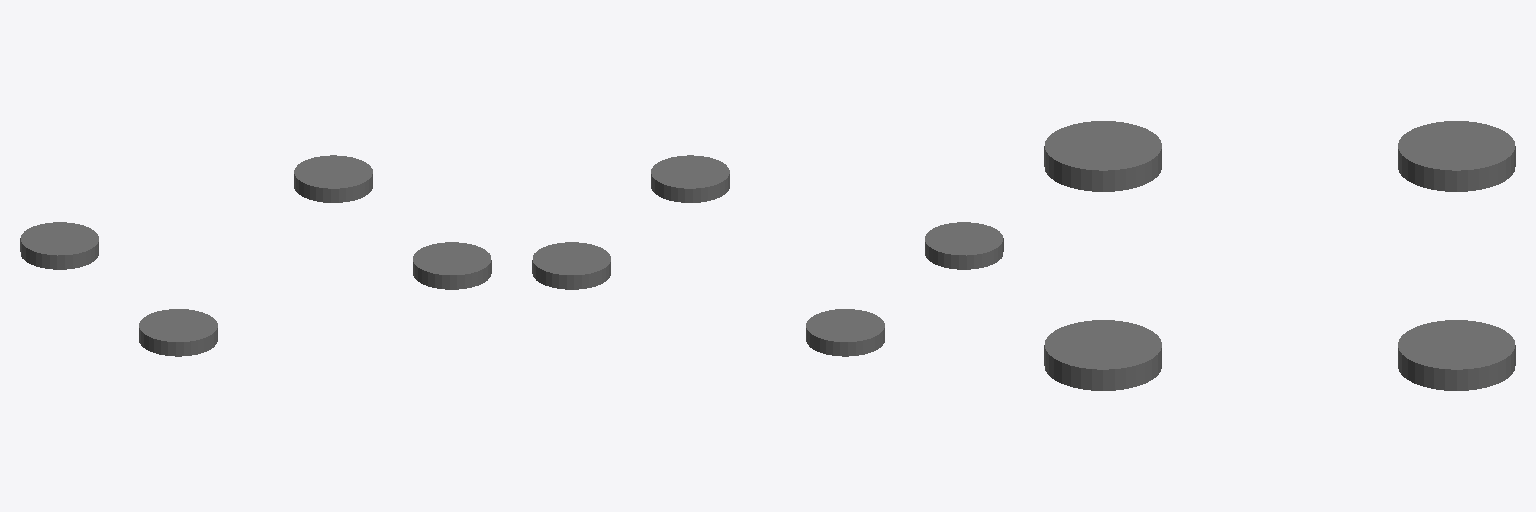
robot.urdf — robot:
<?xml version="1.0"?>
<!--
  整机 URDF：公共体 / 底盘 / 腿，按模块分区。
  两处 <ros2_control> 各自独立，各对应下位机的一帧，id 见块内 <param>。
-->
<robot name="robot">

  <!-- ========== 公共：车体 ========== -->
  <material name="grey">
    <color rgba="0.5 0.5 0.5 1.0"/>
  </material>

  <link name="base_link">
    <inertial>
      <mass value="10.0"/>
      <origin xyz="0 0 0.1" rpy="0 0 0"/>
      <inertia ixx="0.15" ixy="0.0" ixz="0.0" iyy="0.15" iyz="0.0" izz="0.2"/>
    </inertial>
  </link>

  <!-- ========== 底盘 chassis：4 个轮子 ========== -->
  <!-- 轮半径 0.05，轮心距中心 lx=0.2、ly=0.15（lx+ly=0.35），
       需与 config/chassis_controller.yaml 的 kinematics 参数保持一致。 -->
  <link name="front_left_wheel">
    <inertial>
      <mass value="0.3"/>
      <origin xyz="0 0 0"/>
      <inertia ixx="0.001" ixy="0" ixz="0" iyy="0.001" iyz="0" izz="0.001"/>
    </inertial>
    <visual>
      <geometry><cylinder radius="0.05" length="0.02"/></geometry>
      <material name="grey"/>
    </visual>
  </link>

  <link name="front_right_wheel">
    <inertial>
      <mass value="0.3"/>
      <origin xyz="0 0 0"/>
      <inertia ixx="0.001" ixy="0" ixz="0" iyy="0.001" iyz="0" izz="0.001"/>
    </inertial>
    <visual>
      <geometry><cylinder radius="0.05" length="0.02"/></geometry>
      <material name="grey"/>
    </visual>
  </link>

  <link name="rear_left_wheel">
    <inertial>
      <mass value="0.3"/>
      <origin xyz="0 0 0"/>
      <inertia ixx="0.001" ixy="0" ixz="0" iyy="0.001" iyz="0" izz="0.001"/>
    </inertial>
    <visual>
      <geometry><cylinder radius="0.05" length="0.02"/></geometry>
      <material name="grey"/>
    </visual>
  </link>

  <link name="rear_right_wheel">
    <inertial>
      <mass value="0.3"/>
      <origin xyz="0 0 0"/>
      <inertia ixx="0.001" ixy="0" ixz="0" iyy="0.001" iyz="0" izz="0.001"/>
    </inertial>
    <visual>
      <geometry><cylinder radius="0.05" length="0.02"/></geometry>
      <material name="grey"/>
    </visual>
  </link>

  <!-- 轮子绕 Y 轴（横向）旋转 -->
  <joint name="front_left_wheel_joint" type="continuous">
    <parent link="base_link"/>
    <child link="front_left_wheel"/>
    <origin xyz="0.2 0.15 -0.05" rpy="0 0 0"/>
    <axis xyz="0 1 0"/>
  </joint>
  <joint name="front_right_wheel_joint" type="continuous">
    <parent link="base_link"/>
    <child link="front_right_wheel"/>
    <origin xyz="0.2 -0.15 -0.05" rpy="0 0 0"/>
    <axis xyz="0 1 0"/>
  </joint>
  <joint name="rear_left_wheel_joint" type="continuous">
    <parent link="base_link"/>
    <child link="rear_left_wheel"/>
    <origin xyz="-0.2 0.15 -0.05" rpy="0 0 0"/>
    <axis xyz="0 1 0"/>
  </joint>
  <joint name="rear_right_wheel_joint" type="continuous">
    <parent link="base_link"/>
    <child link="rear_right_wheel"/>
    <origin xyz="-0.2 -0.15 -0.05" rpy="0 0 0"/>
    <axis xyz="0 1 0"/>
  </joint>

  <ros2_control name="ChassisSystem" type="system">
    <hardware>
      <plugin>chassis/ChassisSystem</plugin>
      <!-- 整个底盘一帧，id 与下位机固件约定 -->
      <param name="chassis_id">1</param>
    </hardware>

    <joint name="front_left_wheel_joint">
      <command_interface name="velocity"/>
      <state_interface name="velocity"/>
      <state_interface name="position"/>
    </joint>
    <joint name="front_right_wheel_joint">
      <command_interface name="velocity"/>
      <state_interface name="velocity"/>
      <state_interface name="position"/>
    </joint>
    <joint name="rear_left_wheel_joint">
      <command_interface name="velocity"/>
      <state_interface name="velocity"/>
      <state_interface name="position"/>
    </joint>
    <joint name="rear_right_wheel_joint">
      <command_interface name="velocity"/>
      <state_interface name="velocity"/>
      <state_interface name="position"/>
    </joint>
  </ros2_control>

  <!-- ========== 腿 leg：4 条腿 ========== -->
  <link name="front_left_leg"/>
  <link name="front_right_leg"/>
  <link name="rear_left_leg"/>
  <link name="rear_right_leg"/>

  <joint name="front_left_leg_joint" type="revolute">
    <parent link="base_link"/>
    <child link="front_left_leg"/>
    <origin xyz="0.2 0.15 0" rpy="0 0 0"/>
    <axis xyz="0 1 0"/>
    <limit lower="-1.57" upper="1.57" effort="10.0" velocity="10.0"/>
  </joint>
  <joint name="front_right_leg_joint" type="revolute">
    <parent link="base_link"/>
    <child link="front_right_leg"/>
    <origin xyz="0.2 -0.15 0" rpy="0 0 0"/>
    <axis xyz="0 1 0"/>
    <limit lower="-1.57" upper="1.57" effort="10.0" velocity="10.0"/>
  </joint>
  <joint name="rear_left_leg_joint" type="revolute">
    <parent link="base_link"/>
    <child link="rear_left_leg"/>
    <origin xyz="-0.2 0.15 0" rpy="0 0 0"/>
    <axis xyz="0 1 0"/>
    <limit lower="-1.57" upper="1.57" effort="10.0" velocity="10.0"/>
  </joint>
  <joint name="rear_right_leg_joint" type="revolute">
    <parent link="base_link"/>
    <child link="rear_right_leg"/>
    <origin xyz="-0.2 -0.15 0" rpy="0 0 0"/>
    <axis xyz="0 1 0"/>
    <limit lower="-1.57" upper="1.57" effort="10.0" velocity="10.0"/>
  </joint>

  <ros2_control name="LegSystem" type="system">
    <hardware>
      <plugin>leg/LegSystem</plugin>
      <!-- 四条腿一帧，id 与下位机固件约定 -->
      <param name="leg_id">3</param>
    </hardware>

    <joint name="front_left_leg_joint">
      <command_interface name="position"/>
      <state_interface name="position"/>
      <state_interface name="velocity"/>
    </joint>
    <joint name="front_right_leg_joint">
      <command_interface name="position"/>
      <state_interface name="position"/>
      <state_interface name="velocity"/>
    </joint>
    <joint name="rear_left_leg_joint">
      <command_interface name="position"/>
      <state_interface name="position"/>
      <state_interface name="velocity"/>
    </joint>
    <joint name="rear_right_leg_joint">
      <command_interface name="position"/>
      <state_interface name="position"/>
      <state_interface name="velocity"/>
    </joint>
  </ros2_control>
</robot>

--- Render facts (derived) ---
Views: 3 orthographic renders of the robot side by side, from view 1: azimuth 30°, elevation 25°; view 2: azimuth 150°, elevation 25°; view 3: azimuth 270°, elevation 25°.
Model robot with 9 links and 8 joints (4 revolute, 4 continuous), rooted at base_link, posed all joints at 0.
Links seen in each view (by area): view 1: front_left_wheel, rear_right_wheel, front_right_wheel, rear_left_wheel; view 2: front_right_wheel, rear_left_wheel, front_left_wheel, rear_right_wheel; view 3: front_left_wheel, front_right_wheel, rear_left_wheel, rear_right_wheel.
Boxes of the visible links, x1=… form: front_left_wheel: x1=294, y1=155, x2=372, y2=202; rear_right_wheel: x1=139, y1=309, x2=217, y2=356; front_right_wheel: x1=413, y1=242, x2=491, y2=289; rear_left_wheel: x1=20, y1=222, x2=98, y2=269; front_right_wheel: x1=651, y1=155, x2=729, y2=202; rear_left_wheel: x1=806, y1=309, x2=884, y2=356; front_left_wheel: x1=532, y1=242, x2=610, y2=289; rear_right_wheel: x1=925, y1=222, x2=1003, y2=269; front_left_wheel: x1=1398, y1=320, x2=1515, y2=390; front_right_wheel: x1=1044, y1=320, x2=1161, y2=390; rear_left_wheel: x1=1398, y1=121, x2=1515, y2=191; rear_right_wheel: x1=1044, y1=121, x2=1161, y2=191.
Bounding box of the posed robot: 0.5 × 0.4 × 0.02 m (x, y, z).
Geometry: primitives only (box / cylinder / sphere), no mesh files.
